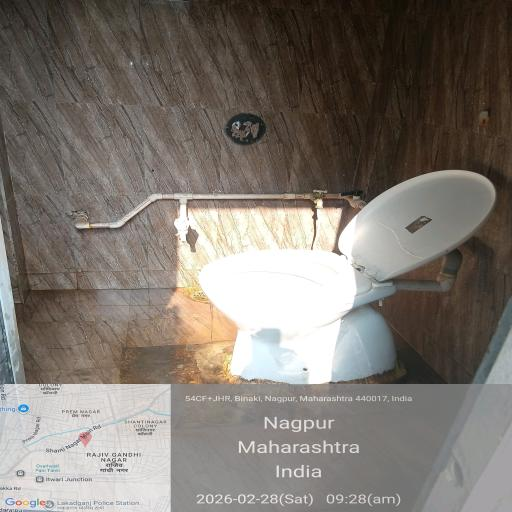clean_floor: (1, 4, 512, 191)
clean_western: (194, 178, 474, 398)
partial_dirty_floor: (52, 276, 439, 512)
